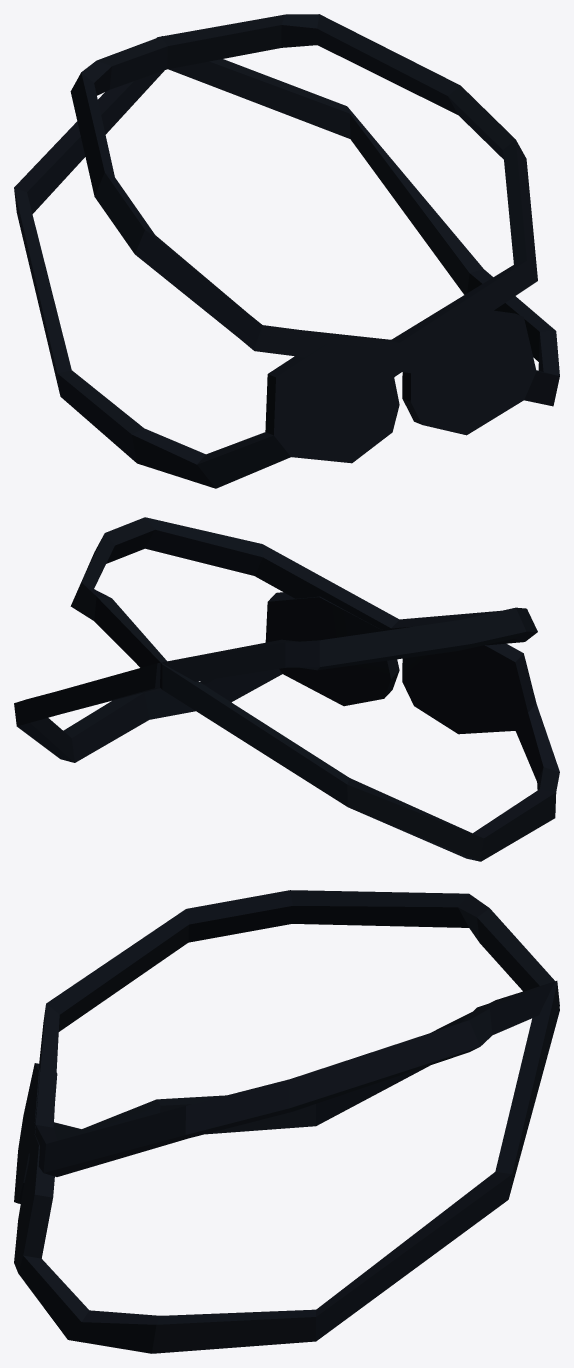
The model's file is doubleeyepatch.fbx.
3 renders of one model, top to bottom at view 1: azimuth 30°, elevation 25°; view 2: azimuth 150°, elevation 25°; view 3: azimuth 270°, elevation 25°, orthographic. The views are drawn at different scales.
Parts seen in each view (by area): view 1: doubleeyepatch; view 2: doubleeyepatch; view 3: doubleeyepatch.
Boxes of the visible parts, x1,y1,x2,y2 form: doubleeyepatch: (14,14,559,488); doubleeyepatch: (14,517,559,861); doubleeyepatch: (14,890,559,1353).
Bounding box in the file's own units: 25.03 × 15.11 × 25.48.
